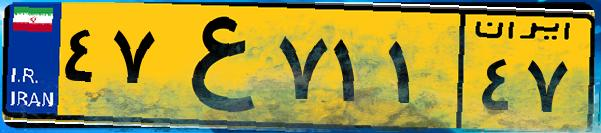1: (385, 28, 445, 110), (330, 28, 385, 110)
4: (57, 26, 110, 100), (475, 38, 525, 113)
7: (270, 28, 330, 110), (525, 38, 570, 115), (110, 28, 158, 98)
ع: (158, 12, 270, 120)
